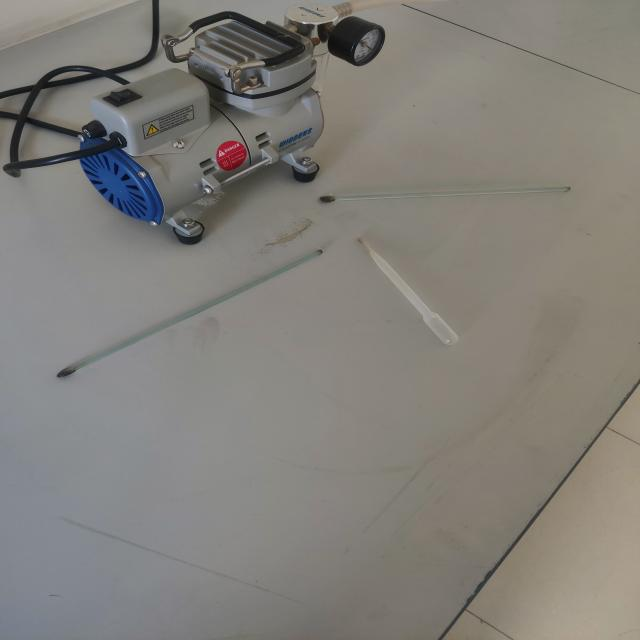Glass_Rod: (43, 236, 335, 390), (302, 173, 592, 215)
Pipette: (351, 223, 494, 362)
